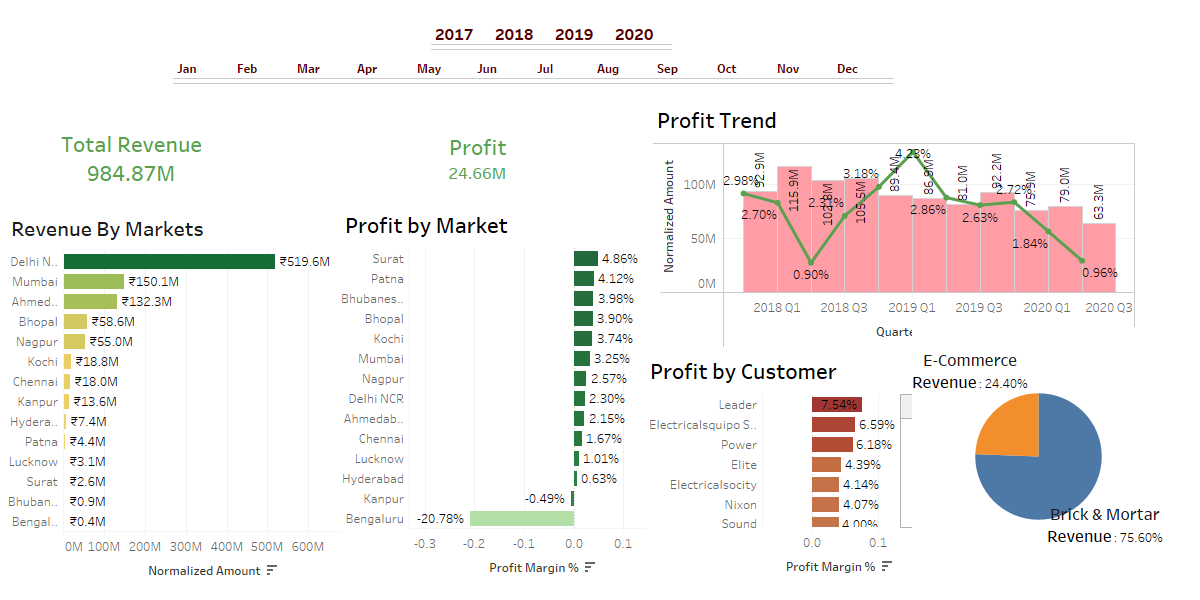

This screenshot's page, from the dashboard's own definition file:
{"tool":"tableau","page":{"name":"Profit Analysis","canvas":[1200,600],"ordinal":1},"visuals":[{"type":"worksheet","title":"Year","mark":"Automatic","cols":["cy_date"],"box":[430.9,24,271.6,28]},{"type":"worksheet","title":"Month","mark":"Automatic","cols":["cy_date"],"box":[173.5,58,790.9,32]},{"type":"worksheet","title":"Profit Trend","mark":"Bar","rows":["Calculation_599823207738966016","Calculation_599823207758929922"],"cols":["cy_date"],"box":[653,99,482,249]},{"type":"worksheet","title":"Revenue","mark":"Automatic","box":[32,130,240,58]},{"type":"worksheet","title":"Profit","mark":"Automatic","box":[431,133,162,61]},{"type":"worksheet","title":"Profit by Market","mark":"Automatic","rows":["markets_name"],"cols":["Calculation_599823207758929922"],"box":[341,204,318,380]},{"type":"worksheet","title":"Revenue By Markets","mark":"Automatic","rows":["markets_name"],"cols":["Calculation_599823207738966016"],"box":[6.5,208,339.3,383]},{"type":"worksheet","title":"Pie Chart","mark":"Pie","box":[912,312,253,274]},{"type":"worksheet","title":"Profit by Customer","mark":"Bar","rows":["custmer_name"],"cols":["Calculation_599823207758929922"],"box":[646,350,270,232]}]}

Visuals, with their boxes in screenshot pixels (x1, y1, x2, y2), scaled from the page's 1200x600 canvas onto the 1200x600 screenshot:
"Year" worksheet: (431, 24, 702, 52)
"Month" worksheet: (174, 58, 964, 90)
"Profit Trend" worksheet (Bar marks): (653, 99, 1135, 348)
"Revenue" worksheet: (32, 130, 272, 188)
"Profit" worksheet: (431, 133, 593, 194)
"Profit by Market" worksheet: (341, 204, 659, 584)
"Revenue By Markets" worksheet: (6, 208, 346, 591)
"Pie Chart" worksheet (Pie marks): (912, 312, 1165, 586)
"Profit by Customer" worksheet (Bar marks): (646, 350, 916, 582)
